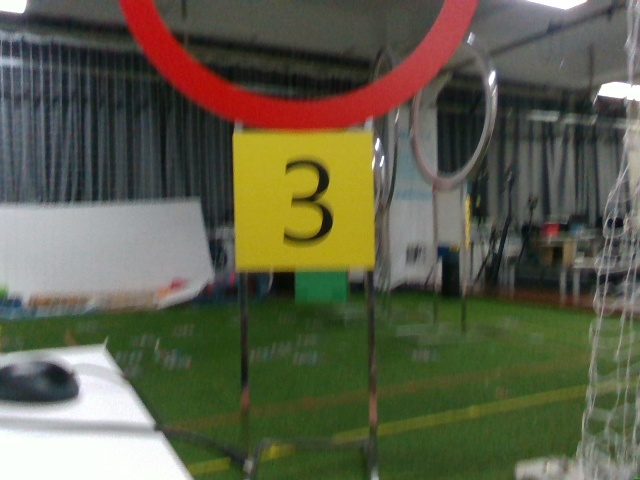target: (233, 136, 370, 273)
